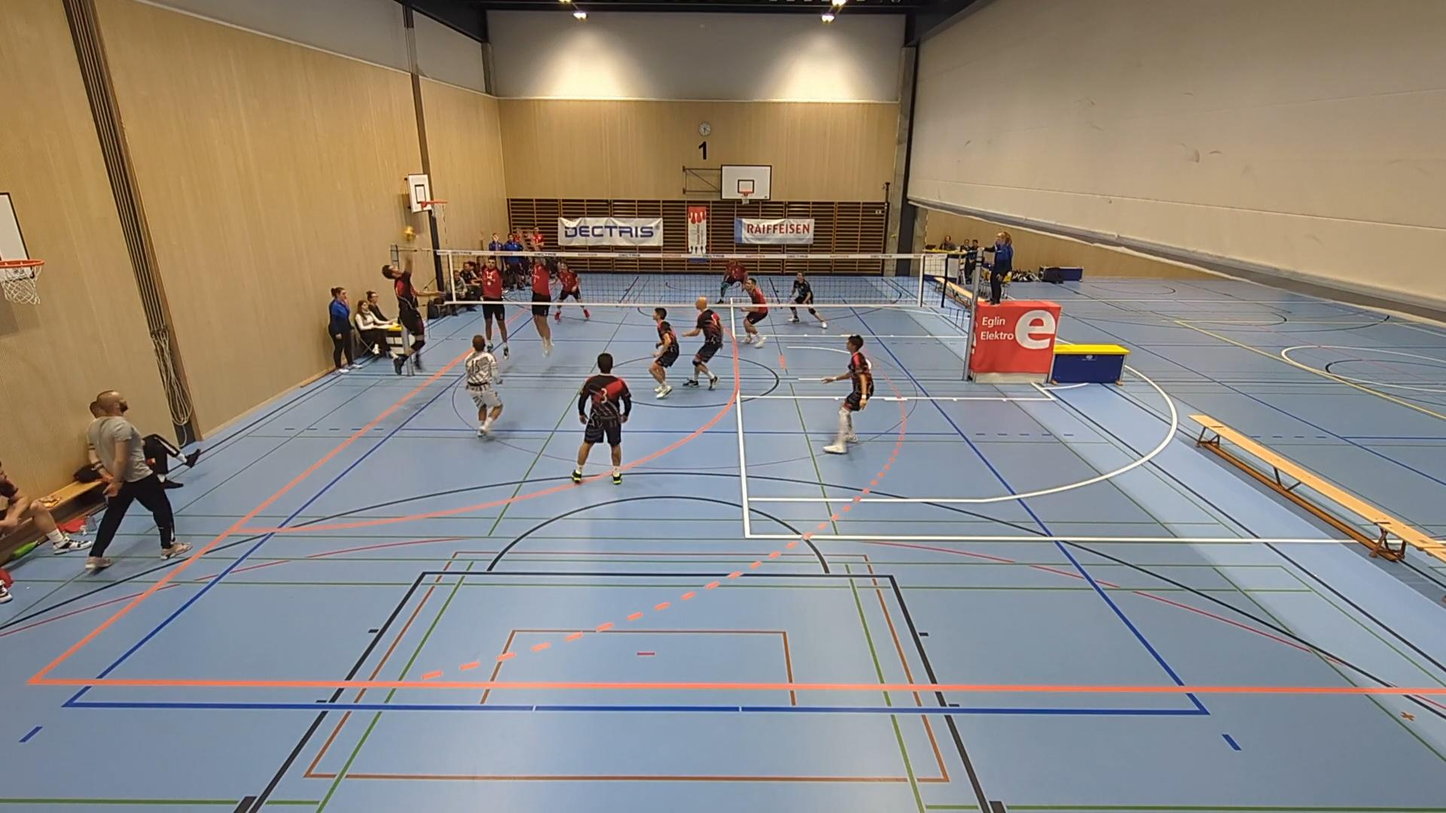attacco: (378, 248, 438, 369)
muro: (520, 225, 564, 362), (474, 230, 513, 361)
